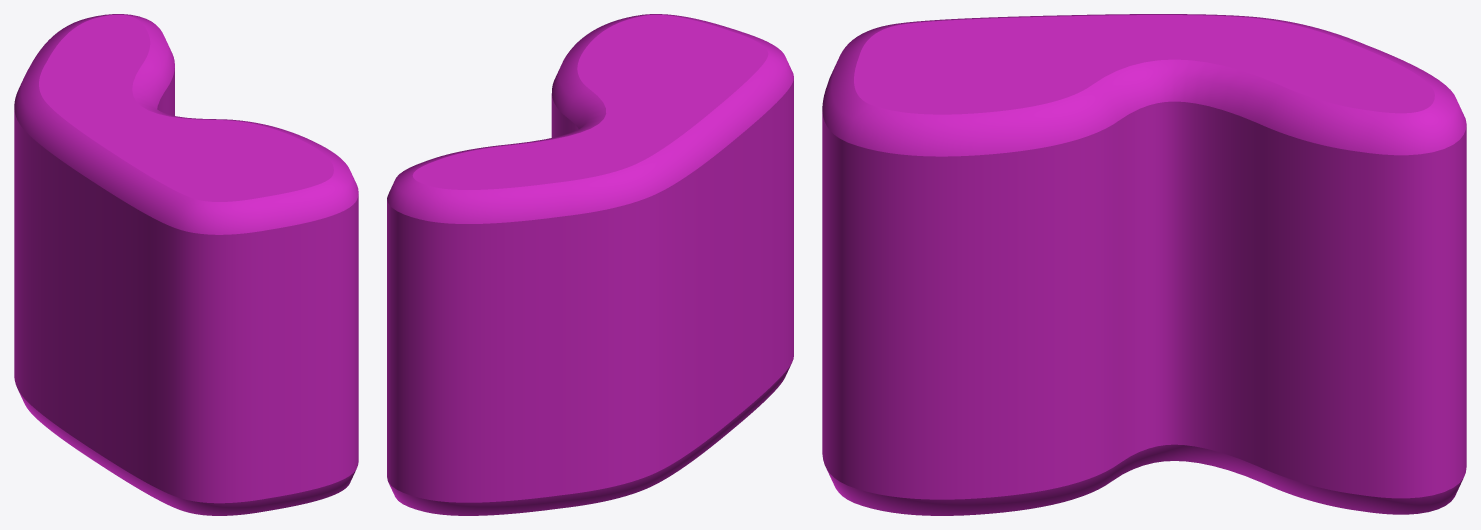
The model's file is Blocky_Comma.fbx.
3 views of the same model, side by side, from view 1: azimuth 30°, elevation 25°; view 2: azimuth 150°, elevation 25°; view 3: azimuth 270°, elevation 25° (orthographic). The views are drawn at different scales.
Visible parts, largest first — view 1: BlockyComma; view 2: BlockyComma; view 3: BlockyComma.
Part boxes in pixels (bbox=[...]): BlockyComma: bbox=[14, 14, 358, 515]; BlockyComma: bbox=[387, 14, 793, 515]; BlockyComma: bbox=[822, 14, 1466, 515].
Bounding box in the file's own units: 0.0947 × 0.14 × 0.2042.
